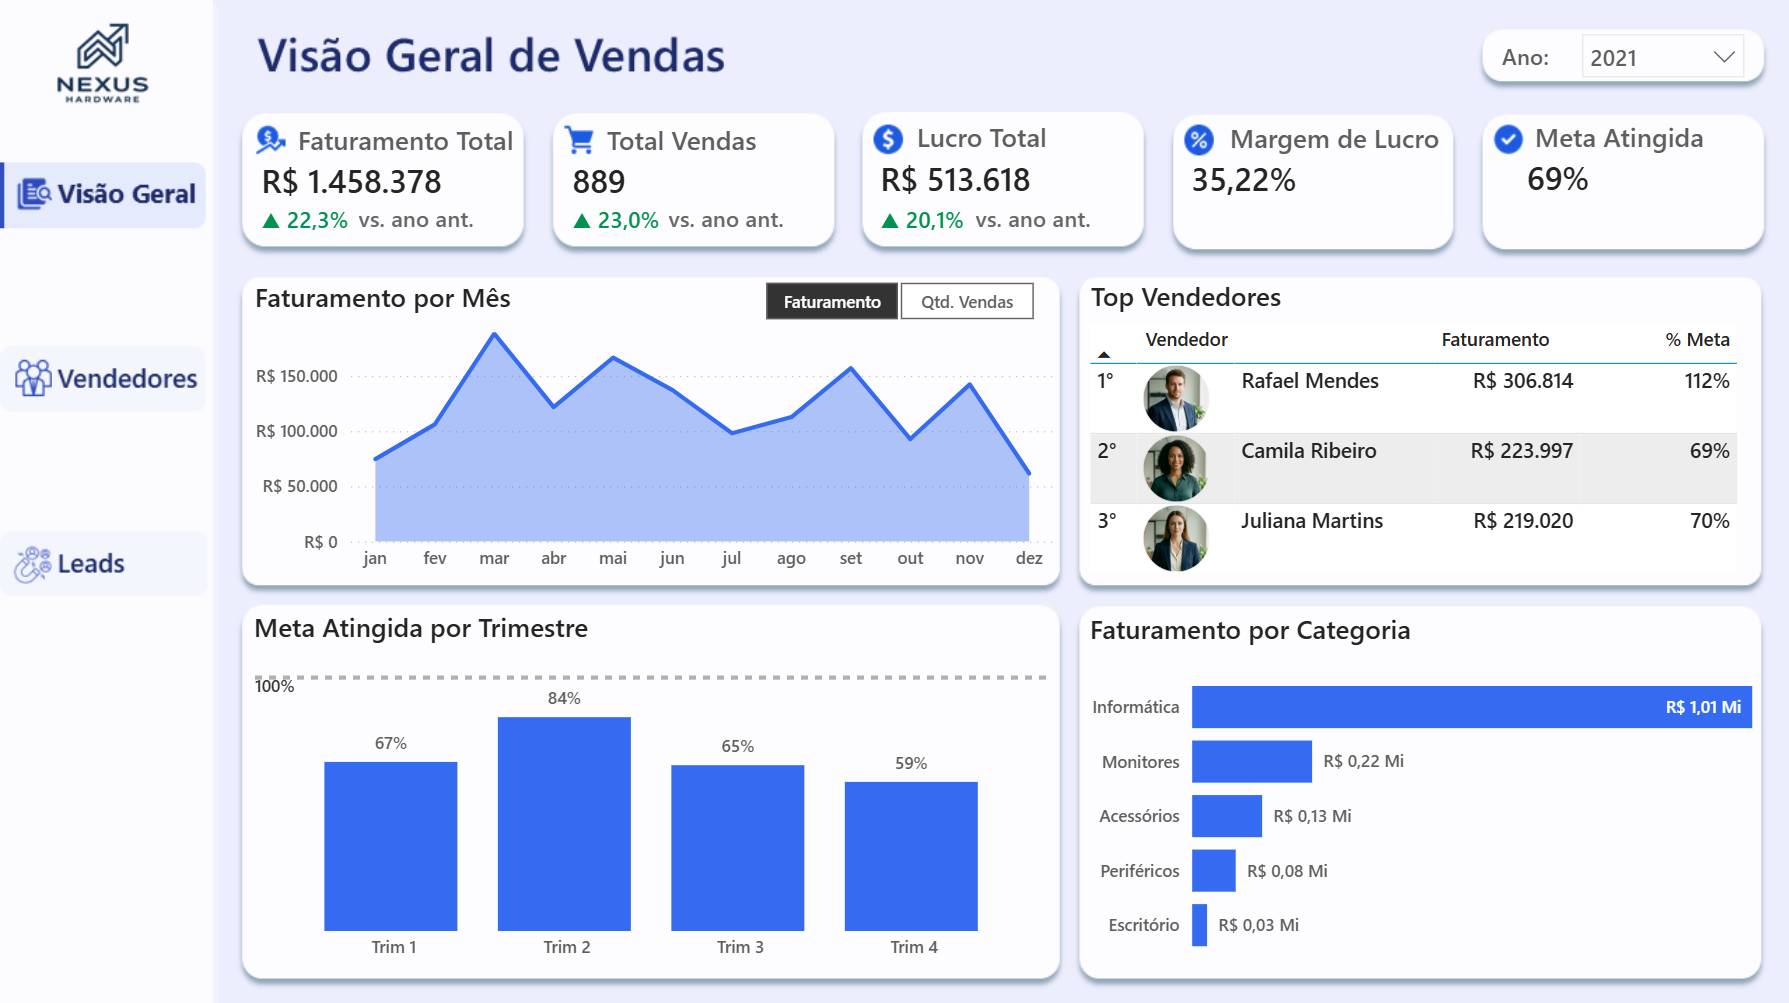

The page's visual inventory and layout, read from the dashboard file:
{"tool":"powerbi","page":{"name":"Visão Geral","canvas":[1280,720],"ordinal":1},"visuals":[{"type":"cardVisual","fields":{"Data":["Medidas.Faturamento Total"]},"box":[158,96,222,63],"z":0},{"type":"cardVisual","fields":{"Data":["Medidas.KPI Lucro"]},"box":[600,127.8,170,55.5],"z":0,"group":"g3"},{"type":"cardVisual","fields":{"Data":["Medidas.KPI YoY Formatado"]},"box":[157.9,128.1,170,55.5],"z":0,"group":"g1"},{"type":"cardVisual","fields":{"Data":["Medidas.KPI Vendas"]},"box":[379.9,128.1,170,55.5],"z":0,"group":"g2"},{"type":"slicer","fields":{"Values":["dCalendario.Ano"]},"box":[1120,14,136,48],"z":1000},{"type":"textbox","box":[208,82,172,44],"z":2000},{"type":"group","id":"g1","title":"Grupo 1","box":[157.9,128.1,170,55.5],"z":3000},{"type":"cardVisual","fields":{"Data":["Medidas.Qtd Vendas"]},"box":[380,95.6,248.9,64.4],"z":4000},{"type":"textbox","box":[428.9,82.2,172.2,43.3],"z":5000},{"type":"group","id":"g2","title":"Grupo 1","box":[379.9,128.1,170,55.5],"z":6000},{"type":"cardVisual","fields":{"Data":["Medidas.Lucro Total"]},"box":[600,94.4,222.2,63.3],"z":7000},{"type":"textbox","box":[650.2,79.8,172,44],"z":8000},{"type":"group","id":"g3","title":"Grupo 1","box":[600,127.8,170,55.5],"z":9000},{"type":"cardVisual","fields":{"Data":["Medidas.% Margem de Lucro"]},"box":[822.2,94.4,137.8,63.3],"z":10000},{"type":"textbox","box":[873.6,80.9,172,44],"z":11000},{"type":"cardVisual","fields":{"Data":["Medidas.% Meta de Receita Atingida (KPI)"]},"box":[1036.7,93.3,153.3,63.3],"z":12000},{"type":"textbox","box":[1091.1,80,172.2,43.3],"z":13000},{"type":"textbox","box":[1068,24,46,33],"z":14000},{"type":"cardVisual","fields":{"Data":["Medidas.Texto Auxiliar"]},"box":[668.1,122.5,143.8,62.5],"z":15000},{"type":"cardVisual","fields":{"Data":["Medidas.Texto Auxiliar"]},"box":[448.8,122.5,143.8,62.5],"z":16000},{"type":"cardVisual","fields":{"Data":["Medidas.Texto Auxiliar"]},"box":[226.8,122.6,144.2,62.6],"z":17000},{"type":"tableEx","title":"Top Vendedores","fields":{"Values":["Medidas.Posição 1","dVendedores.Foto","dVendedores.Vendedor","Medidas.Faturamento Total","Medidas.% Meta de Receita Atingida"]},"box":[772.9,227.1,482.9,190],"z":18000},{"type":"textbox","box":[774.3,193.6,146.4,37.9],"z":19000},{"type":"clusteredColumnChart","title":"Faturamento vs. Meta","fields":{"Category":["Tabela Eixo Ano/Trimestres.Rótulo"],"Y":["Medidas.% Meta Inteligente Anos/Trimestres"]},"box":[177.5,470,580,225],"z":20000},{"type":"clusteredBarChart","fields":{"Category":["dProdutos.Categoria","dProdutos.Subcategoria","dProdutos.Marca","dProdutos.Nome Produto"],"Y":["Medidas.Faturamento Total"]},"box":[773.3,436.7,483.3,261.1],"z":21000},{"type":"areaChart","fields":{"Y":["Medidas.Faturamento Inteligente Anos/Meses"],"Category":["Tabela Eixo.Rótulo"]},"box":[176.9,199.4,580,217.5],"z":22000},{"type":"slicer","fields":{"Values":["Indicadores Inteligentes.Indicadores Inteligentes"]},"box":[521.2,195,240.6,38.1],"z":23000},{"type":"textbox","box":[176.2,435,306.2,35],"z":24000},{"type":"actionButton","box":[0,115.8,147.3,47.3],"z":25000},{"type":"actionButton","box":[0,247.7,147.3,46.9],"z":26000},{"type":"actionButton","box":[0,378.1,147.3,46.9],"z":27000}]}

Visuals, with their boxes on the page's 1280x720 design canvas (x1, y1, x2, y2). These are canvas units, not pixel positions in the 1789x1003 screenshot, which may show the page scaled, cropped or inside an application window:
cardVisual - Medidas.Faturamento Total: (left=158, top=96, right=380, bottom=159)
cardVisual - Medidas.KPI Lucro: (left=600, top=128, right=770, bottom=183)
cardVisual - Medidas.KPI YoY Formatado: (left=158, top=128, right=328, bottom=184)
cardVisual - Medidas.KPI Vendas: (left=380, top=128, right=550, bottom=184)
slicer - dCalendario.Ano: (left=1120, top=14, right=1256, bottom=62)
textbox: (left=208, top=82, right=380, bottom=126)
"Grupo 1" group: (left=158, top=128, right=328, bottom=184)
cardVisual - Medidas.Qtd Vendas: (left=380, top=96, right=629, bottom=160)
textbox: (left=429, top=82, right=601, bottom=126)
"Grupo 1" group: (left=380, top=128, right=550, bottom=184)
cardVisual - Medidas.Lucro Total: (left=600, top=94, right=822, bottom=158)
textbox: (left=650, top=80, right=822, bottom=124)
"Grupo 1" group: (left=600, top=128, right=770, bottom=183)
cardVisual - Medidas.% Margem de Lucro: (left=822, top=94, right=960, bottom=158)
textbox: (left=874, top=81, right=1046, bottom=125)
cardVisual - Medidas.% Meta de Receita Atingida (KPI): (left=1037, top=93, right=1190, bottom=157)
textbox: (left=1091, top=80, right=1263, bottom=123)
textbox: (left=1068, top=24, right=1114, bottom=57)
cardVisual - Medidas.Texto Auxiliar: (left=668, top=122, right=812, bottom=185)
cardVisual - Medidas.Texto Auxiliar: (left=449, top=122, right=593, bottom=185)
cardVisual - Medidas.Texto Auxiliar: (left=227, top=123, right=371, bottom=185)
"Top Vendedores" tableEx: (left=773, top=227, right=1256, bottom=417)
textbox: (left=774, top=194, right=921, bottom=232)
"Faturamento vs. Meta" clusteredColumnChart: (left=178, top=470, right=758, bottom=695)
clusteredBarChart - dProdutos.Categoria x dProdutos.Subcategoria: (left=773, top=437, right=1257, bottom=698)
areaChart - Medidas.Faturamento Inteligente Anos/Meses x Tabela Eixo.Rótulo: (left=177, top=199, right=757, bottom=417)
slicer - Indicadores Inteligentes.Indicadores Inteligentes: (left=521, top=195, right=762, bottom=233)
textbox: (left=176, top=435, right=482, bottom=470)
actionButton: (left=0, top=116, right=147, bottom=163)
actionButton: (left=0, top=248, right=147, bottom=295)
actionButton: (left=0, top=378, right=147, bottom=425)
